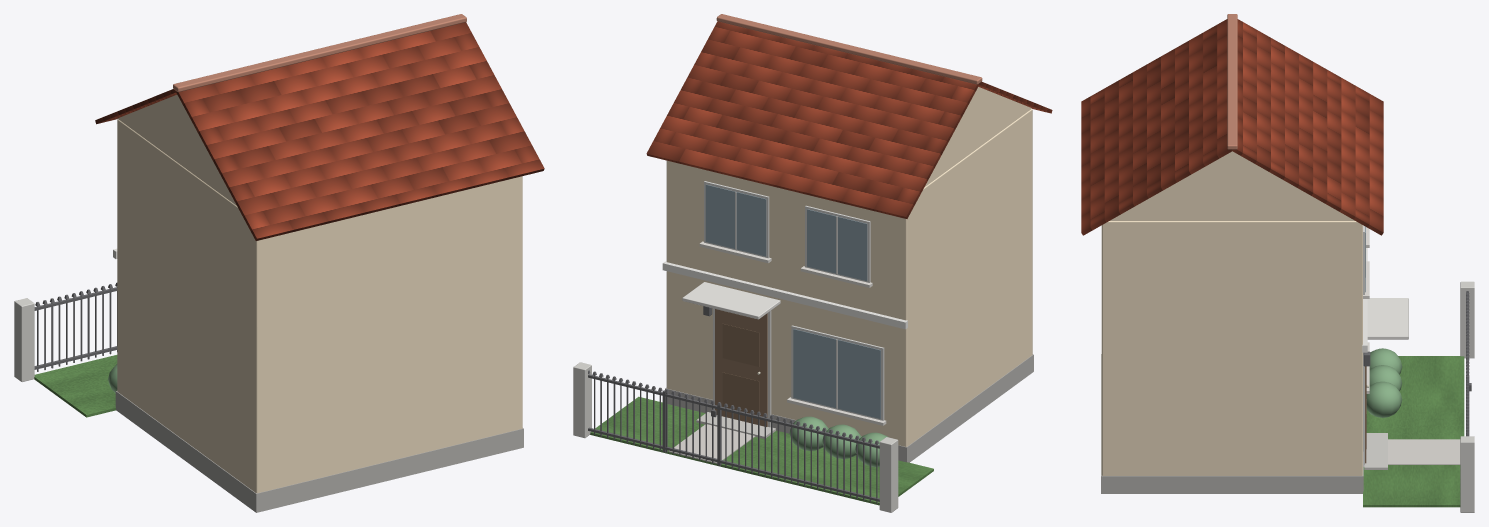
The model's file is barrio.casa_acomodada.fbx.
3 views of the same model, side by side, from view 1: azimuth 30°, elevation 25°; view 2: azimuth 150°, elevation 25°; view 3: azimuth 270°, elevation 25° (orthographic). The views are drawn at different scales.
Parts seen in each view (by area): view 1: Casa, Agua del techo.001, Zocalo, Frontones, Antejardin, Cumbrera, Pilar.001, Agua del techo; view 2: Casa, Agua del techo, Antejardin, Vidrio, Vidrio.001, Vidrio.002, Frontones, Zocalo, Puerta, Cumbrera, Cornisa entre pisos, Marquesina (+16 smaller); view 3: Casa, Agua del techo, Agua del techo.001, Antejardin, Frontones, Zocalo, Camino, Marquesina, Cumbrera, Pilar, Arbusto, Pilar.001 (+3 smaller).
Part boxes in pixels (x1,y1,x2,y2): Casa: (117,119,522,493); Agua del techo.001: (176,22,544,240); Zocalo: (115,391,523,512); Frontones: (117,95,236,205); Antejardin: (34,355,117,417); Cumbrera: (173,14,466,91); Pilar.001: (14,298,34,381); Agua del techo: (95,89,176,124); Casa: (666,109,1032,446); Agua del techo: (646,21,978,218); Antejardin: (590,396,933,505); Vidrio: (793,329,880,418); Vidrio.001: (705,184,766,256); Vidrio.002: (807,209,867,281); Frontones: (925,87,1031,186); Zocalo: (665,354,1033,462); Puerta: (715,309,767,426); Cumbrera: (716,14,982,84); Cornisa entre pisos: (662,261,907,329); Marquesina: (682,282,780,319); Casa: (1101,221,1362,475); Agua del techo: (1231,19,1383,235); Agua del techo.001: (1081,19,1232,235); Antejardin: (1363,356,1464,507); Frontones: (1110,151,1354,220); Zocalo: (1101,354,1363,493); Camino: (1388,439,1460,464); Marquesina: (1367,298,1408,339); Cumbrera: (1227,14,1237,149); Pilar: (1460,436,1474,512); Arbusto: (1366,381,1402,417); Pilar.001: (1460,281,1474,358).
Size of the model in its own units: 5.82 by 5.98 by 6.03.
Materials: 28 (2 with a texture image).
